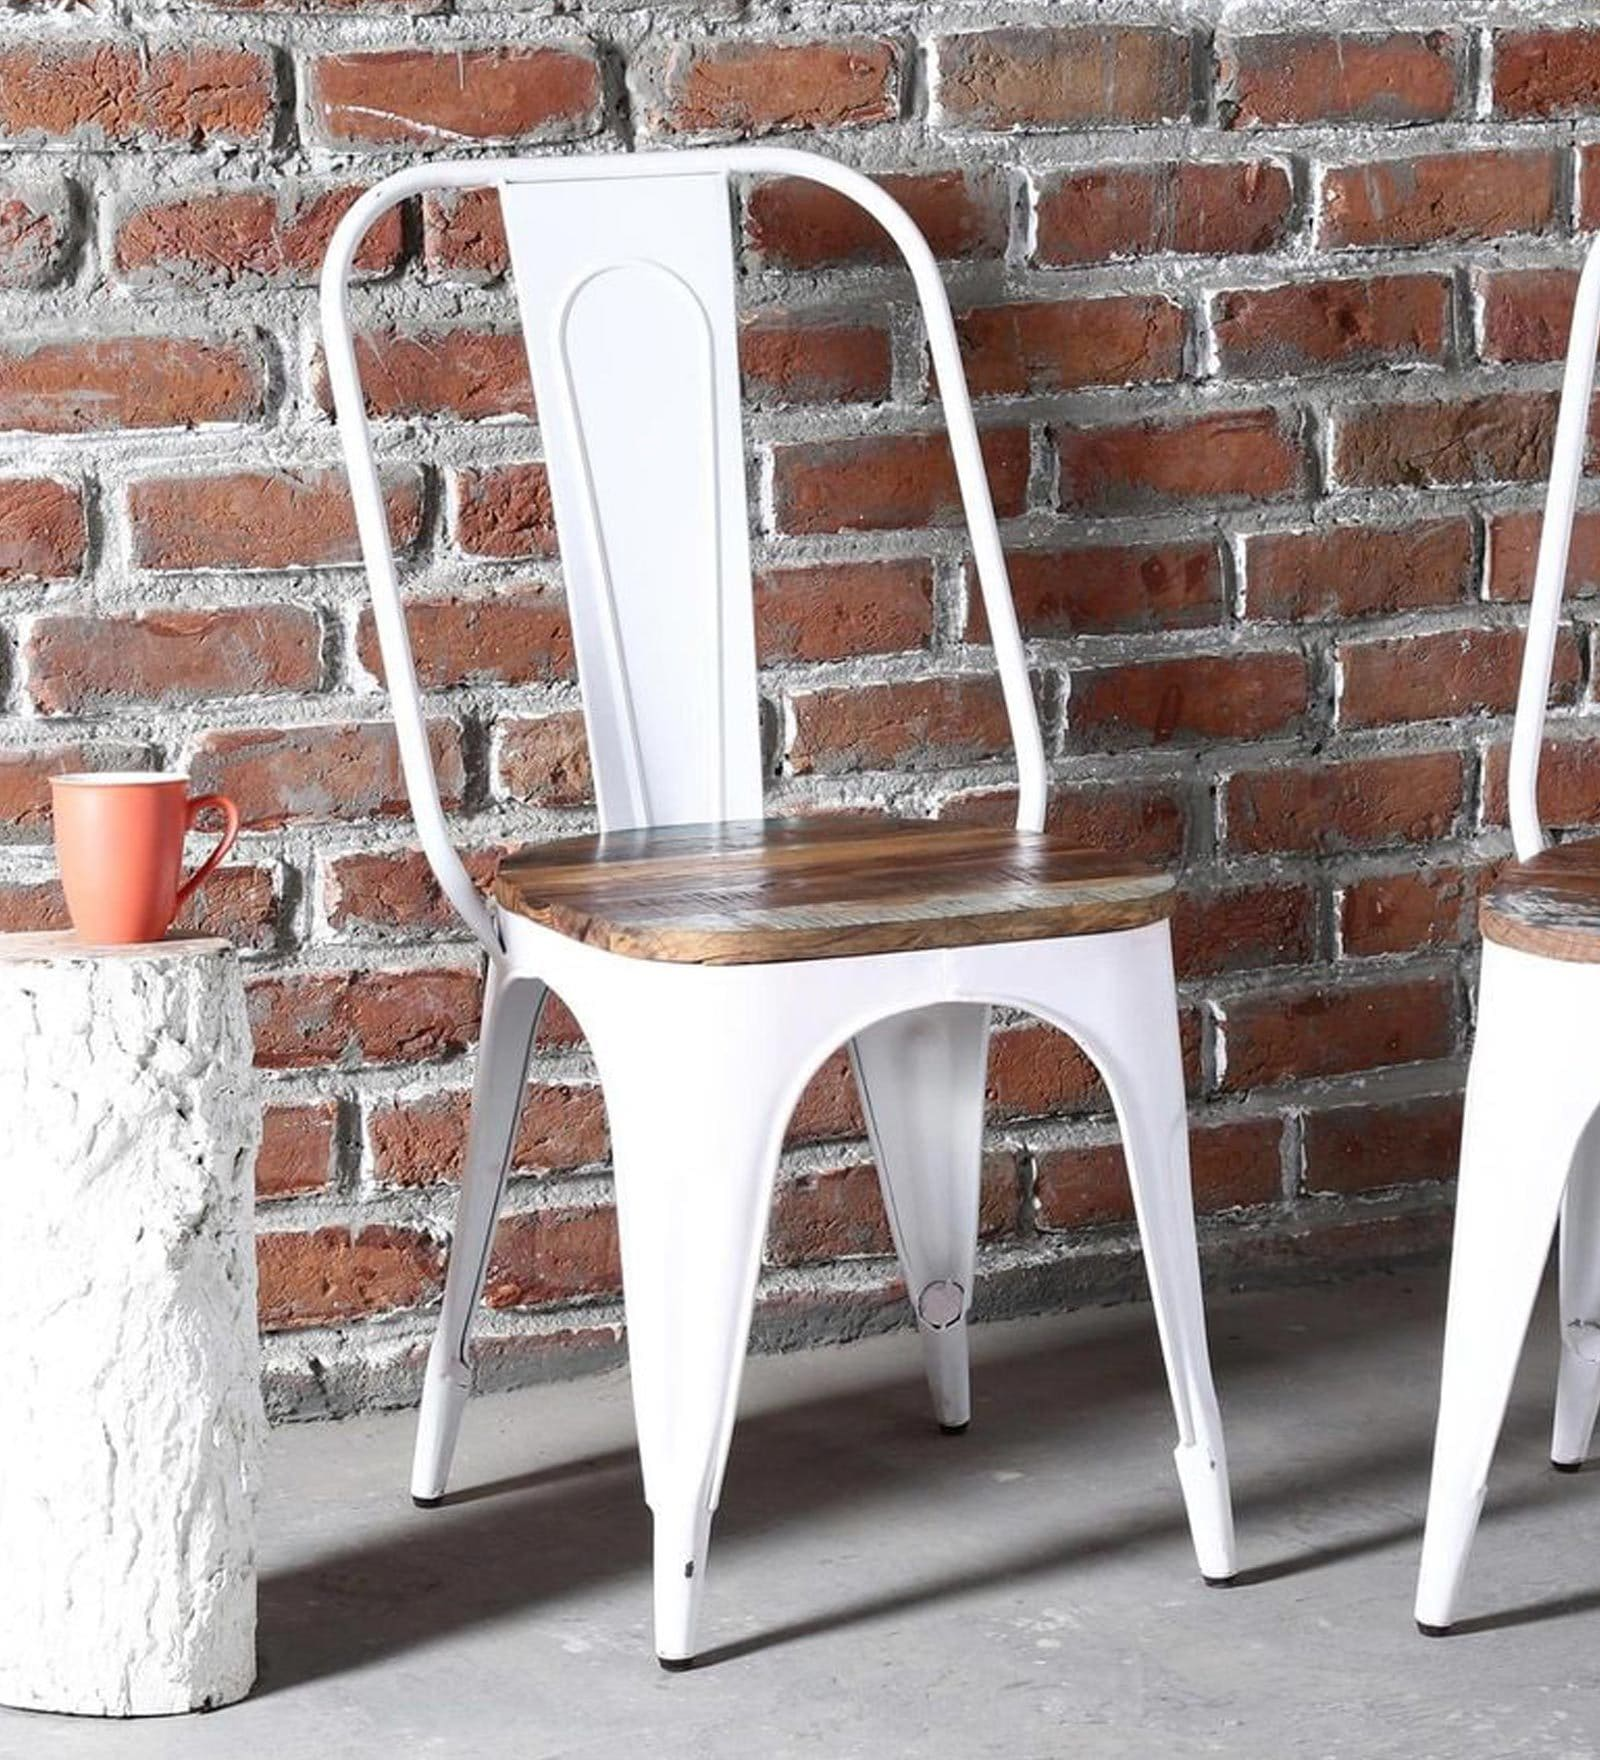Ekati Metal Chair in White Color with Wooden Seat by Bohemiana: (300, 136, 1326, 1689)
